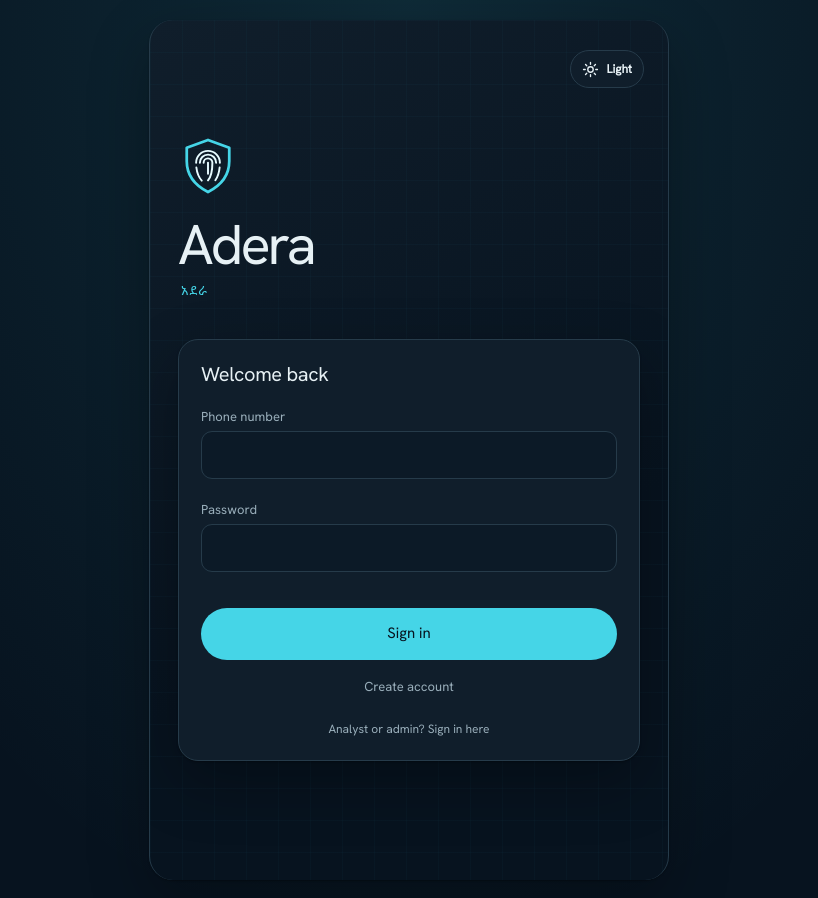
Scenario: signing in and out › validates the form before asking the server
Click the button "Sign in" at (409, 634), box [201,608,617,660]
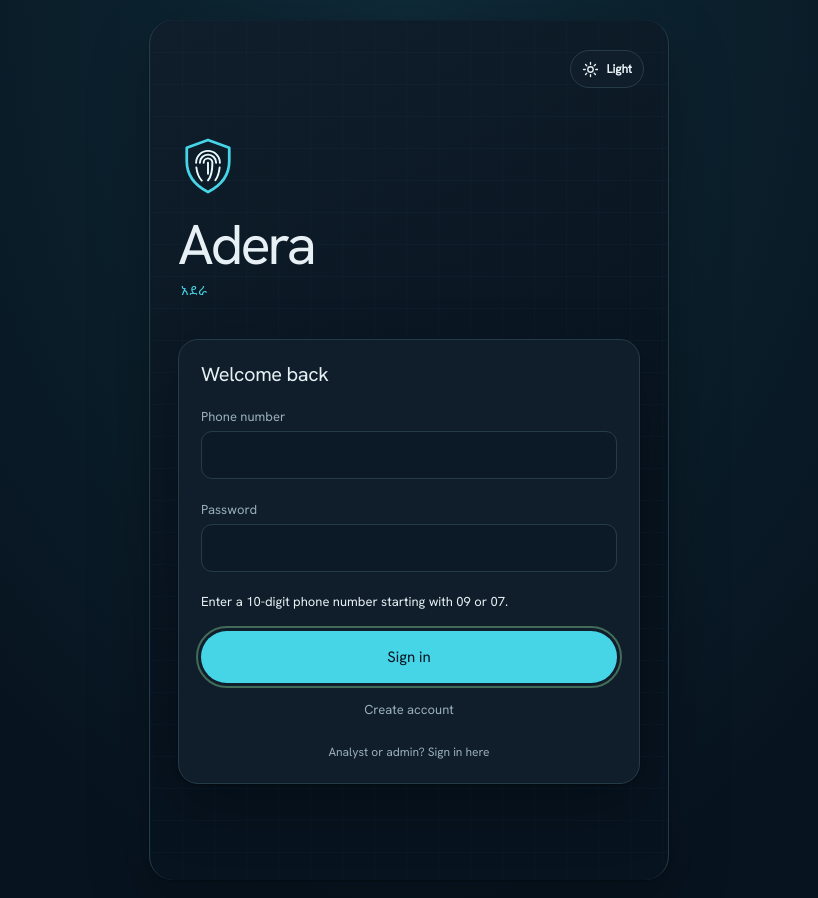
expect the message shows "10-digit phone number": met, box [201,593,508,610]
Type "0912" into the field labelled "Phone number" at (409, 455), box [201,431,617,479]
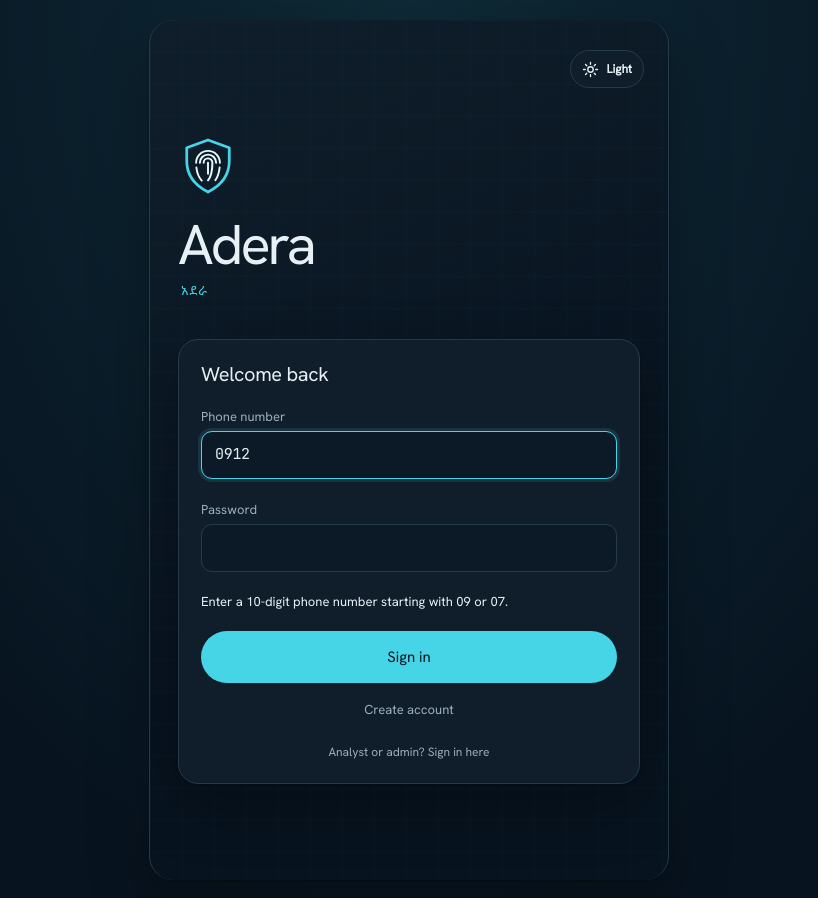
Click the button "Sign in" at (409, 657), box [201,631,617,683]
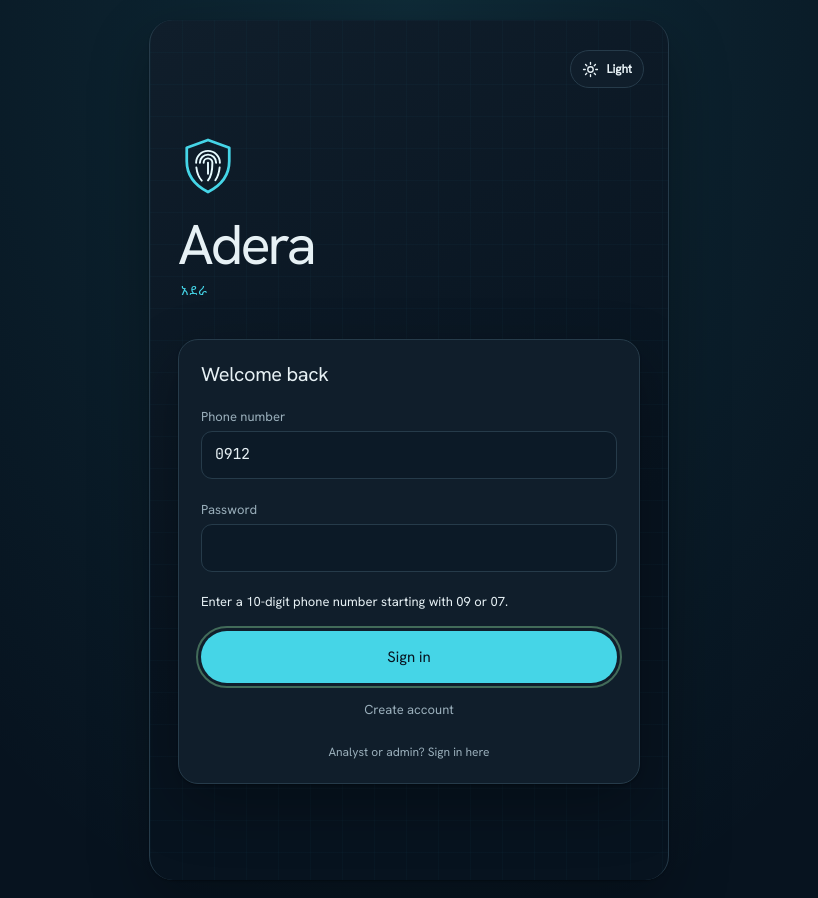
expect the message shows "10-digit phone number": met, box [201,593,508,610]
Replace the text in the field labelled "Phone number" with "0911000001" at (409, 455), box [201,431,617,479]
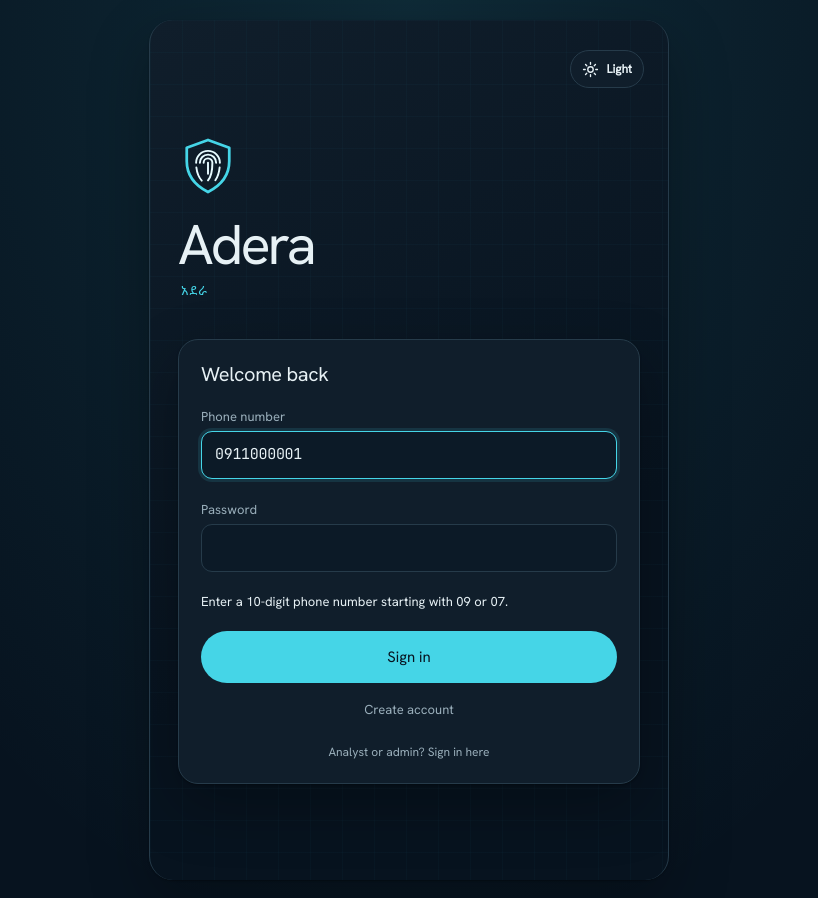
Click the button "Sign in" at (409, 657), box [201,631,617,683]
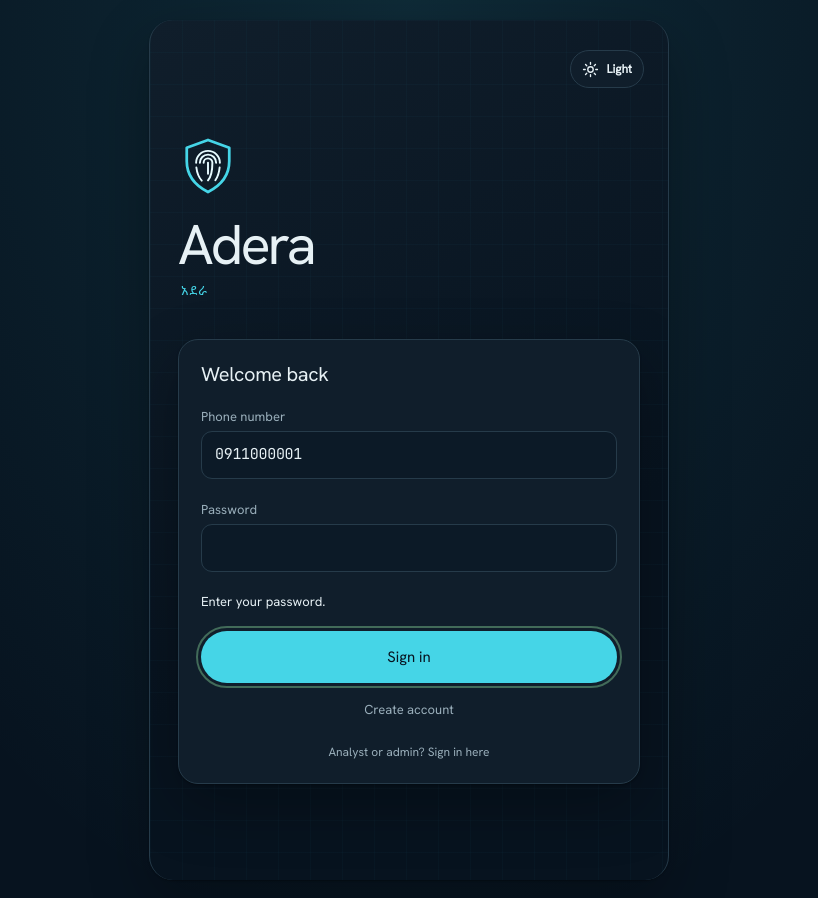
expect the message reads "Enter your password.": met, box [201,593,325,610]
